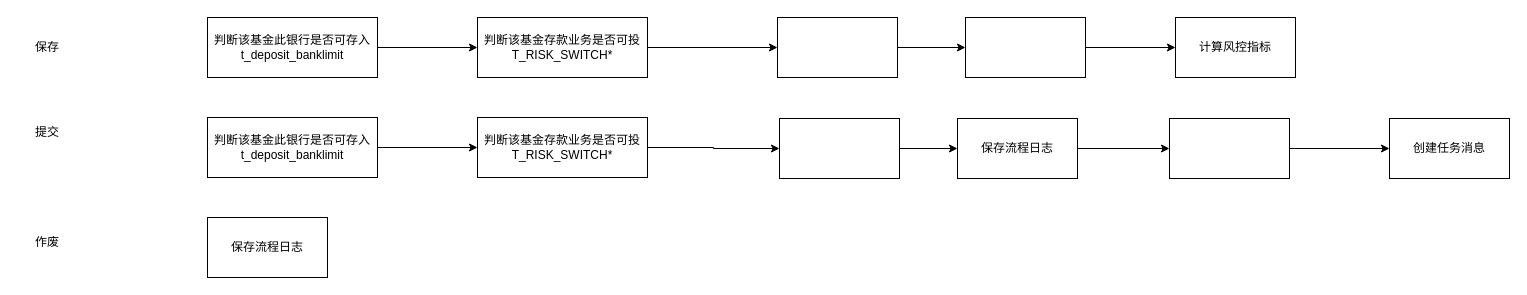
Some shapes in this 1527 by 295 pixel diagram are drawn without their labels. Here are the shapes that lost their labels. From the top down, the centre of each, then its label:
pixel 837 47: 保存存款信息
pixel 1025 47: 创建审核项
pixel 839 148: 保存审核项信息
pixel 1229 148: 提取下一步名称并创建审核项
